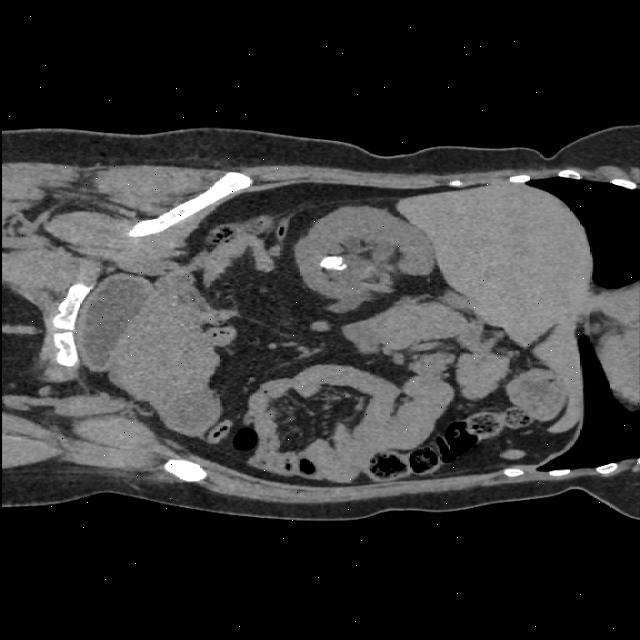kidneystone: (320, 256, 346, 270)
